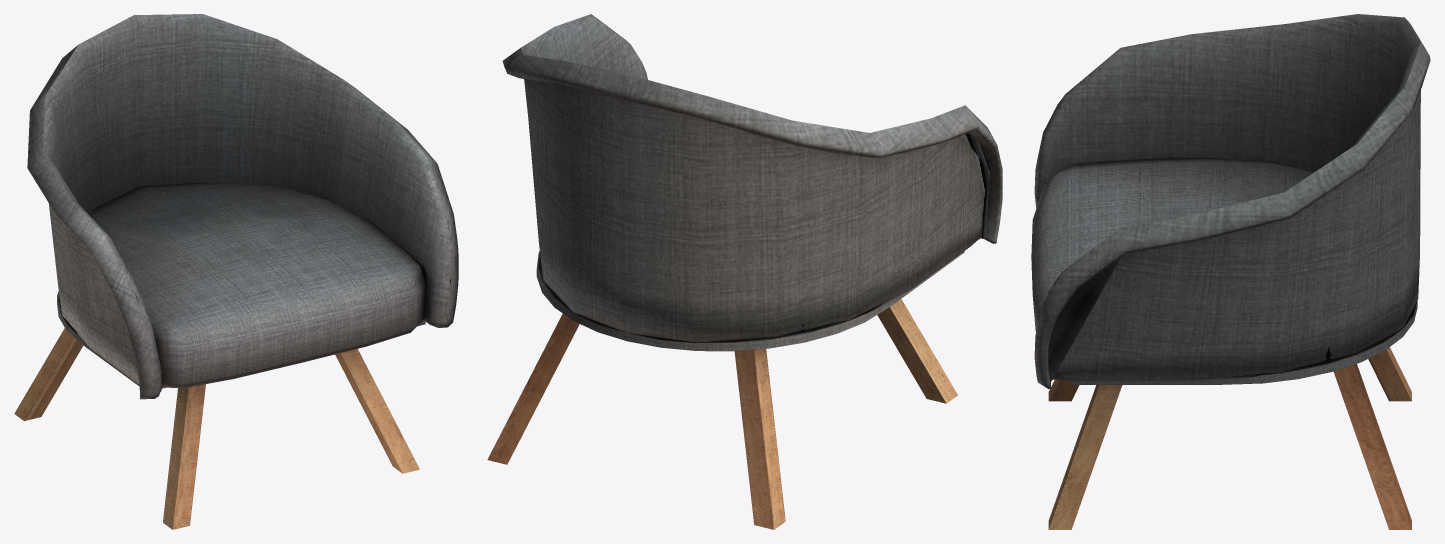
The model's file is Mestler Side Chair.FBX.
The picture shows the model from 3 angles, left to right: view 1: azimuth 30°, elevation 25°; view 2: azimuth 150°, elevation 25°; view 3: azimuth 270°, elevation 25°; orthographic projection. The views are drawn at different scales.
Visible parts, largest first — view 1: Mestler Side Chair; view 2: Mestler Side Chair; view 3: Mestler Side Chair.
Boxes of the visible parts, x1,y1,x2,y2 form: Mestler Side Chair: [14, 14, 458, 529]; Mestler Side Chair: [487, 14, 1002, 529]; Mestler Side Chair: [1031, 14, 1430, 529].
Bounding box in the file's own units: 1.09 × 1.08 × 0.9355.
Materials: 1 (1 with a texture image).
